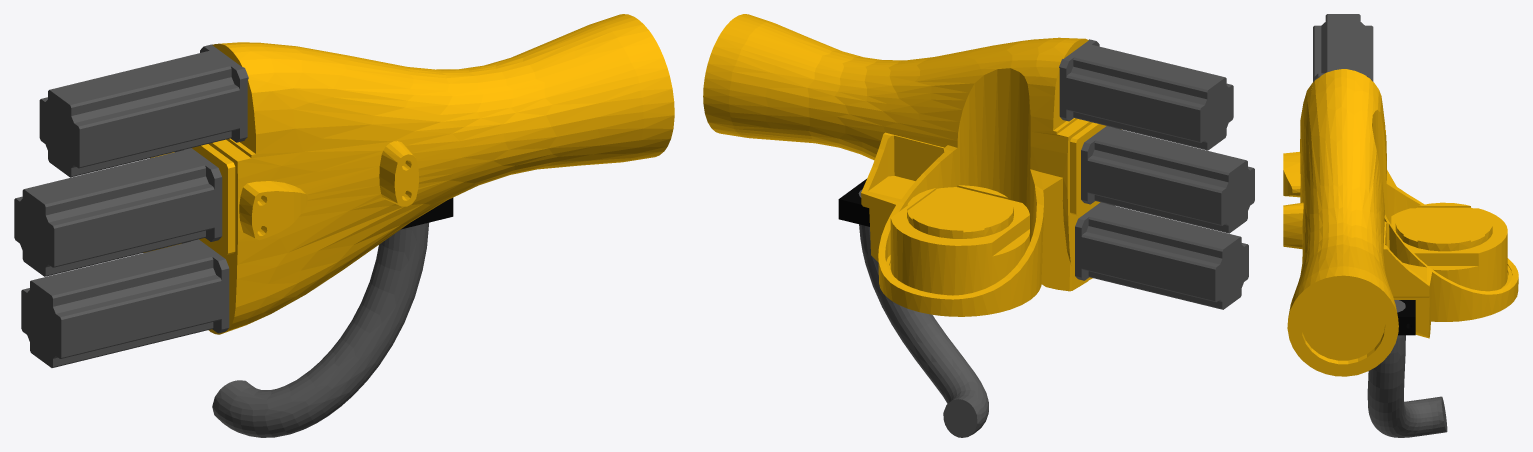
3 renders of one model, left to right at view 1: azimuth 30°, elevation 25°; view 2: azimuth 150°, elevation 25°; view 3: azimuth 270°, elevation 25°, orthographic. The views are drawn at different scales.
Parts seen in each view (by area): view 1: node0, node3, node2; view 2: node0, node3, node2, node1; view 3: node0, node2, node3, node1.
Boxes of the visible parts, <box> form: node0: <box>143,14,674,334</box>; node3: <box>14,44,248,367</box>; node2: <box>212,222,428,437</box>; node0: <box>703,14,1121,316</box>; node3: <box>1059,39,1254,309</box>; node2: <box>858,189,988,437</box>; node1: <box>838,179,869,226</box>; node0: <box>1283,69,1518,376</box>; node2: <box>1367,300,1447,437</box>; node3: <box>1313,14,1373,82</box>; node1: <box>1397,300,1415,335</box>.
Size of the model in its own units: 0.627 by 0.2791 by 0.4401.
